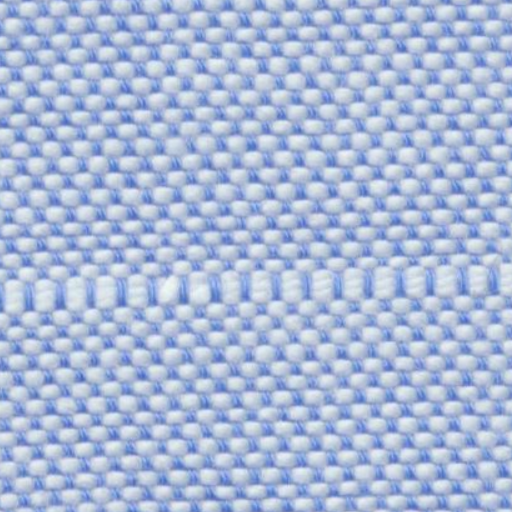TuoSha: (18, 234, 500, 338)
